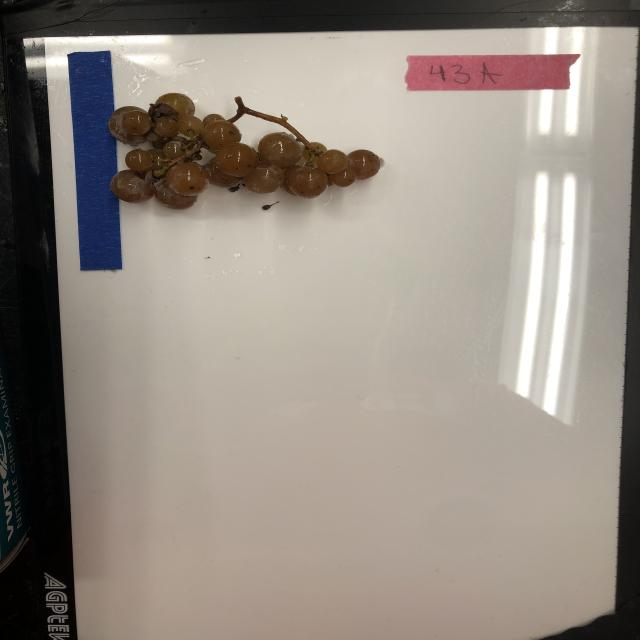grape_cluster: (107, 92, 382, 212)
index: (404, 53, 580, 92)
measure_label: (66, 50, 124, 272)
